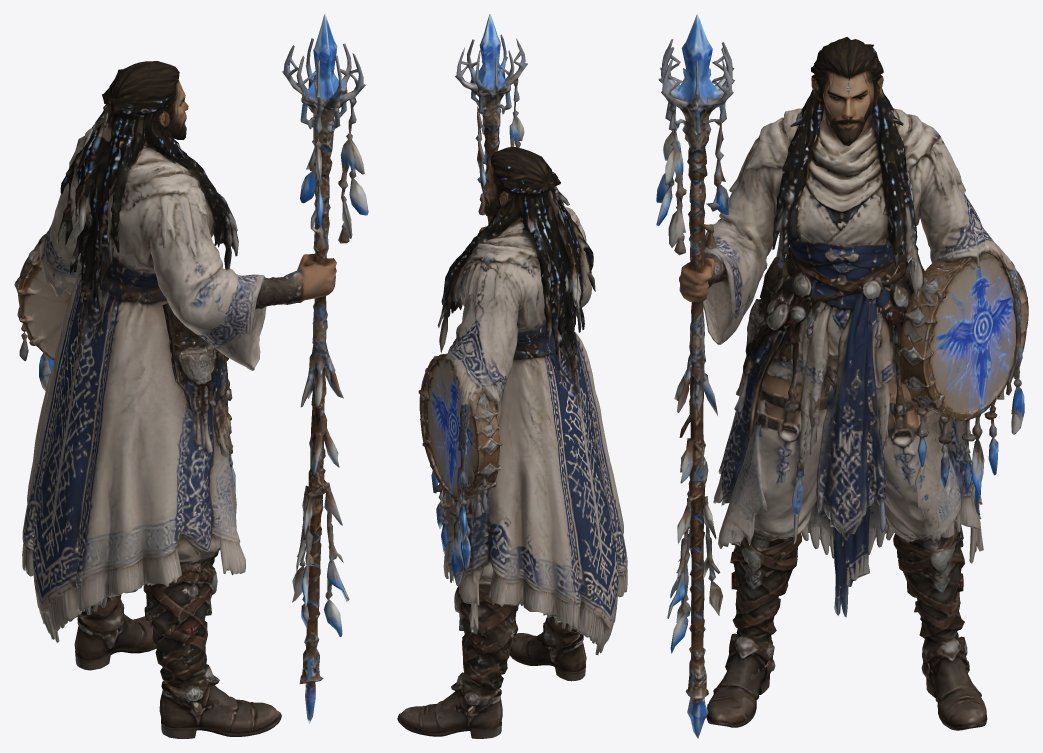
The model's file is drumcalleralt-SaltNomad-tripo.glb.
3 renders of one model, left to right at view 1: azimuth 30°, elevation 25°; view 2: azimuth 150°, elevation 25°; view 3: azimuth 270°, elevation 25°, orthographic. The views are drawn at different scales.
Visible parts, largest first — view 1: tripo_node_b4dc13e2-377d-421c-b89a-92a3bdd1981b; view 2: tripo_node_b4dc13e2-377d-421c-b89a-92a3bdd1981b; view 3: tripo_node_b4dc13e2-377d-421c-b89a-92a3bdd1981b.
Boxes of the visible parts, x1,y1,x2,y2 form: tripo_node_b4dc13e2-377d-421c-b89a-92a3bdd1981b: (14, 14, 368, 738); tripo_node_b4dc13e2-377d-421c-b89a-92a3bdd1981b: (397, 14, 627, 738); tripo_node_b4dc13e2-377d-421c-b89a-92a3bdd1981b: (656, 14, 1028, 738).
Bounding box in the file's own units: 0.3543 × 1 × 0.4588.
Materials: 1 (1 with a texture image).
